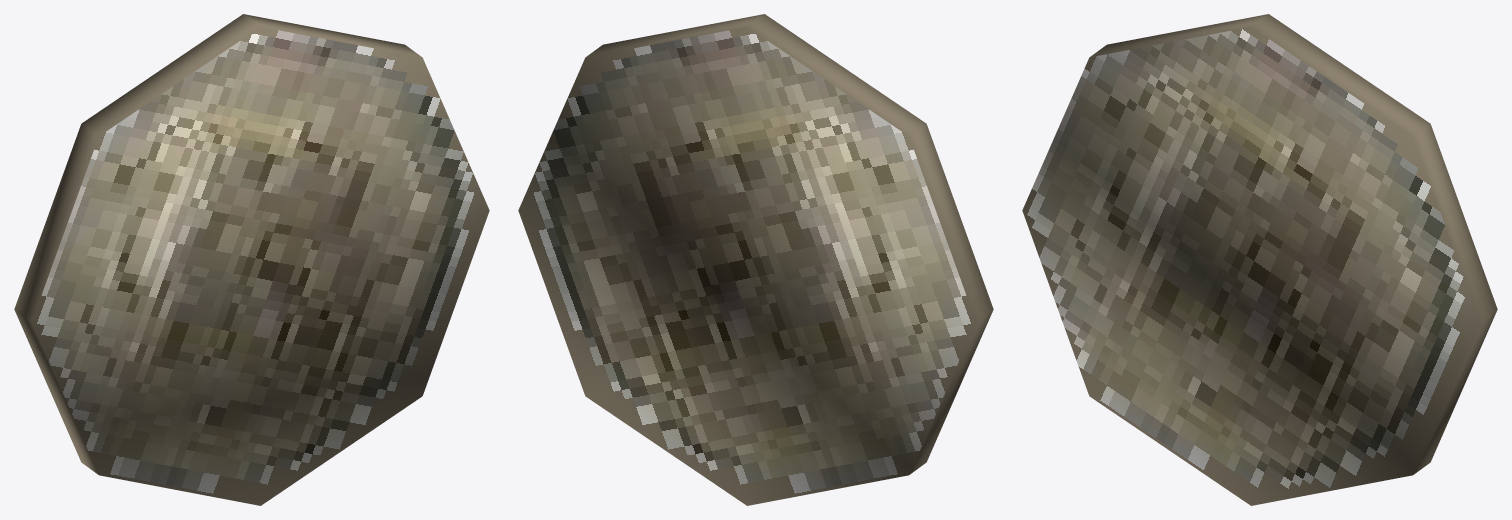
The model's file is aventine_coins_quinarius.glb.
The picture shows the model from 3 angles, left to right: view 1: azimuth 30°, elevation 25°; view 2: azimuth 150°, elevation 25°; view 3: azimuth 330°, elevation 25°; orthographic projection.
Parts seen in each view (by area): view 1: coin_03_quinarius; view 2: coin_03_quinarius; view 3: coin_03_quinarius.
Boxes of the visible parts, bbox=[...] form: coin_03_quinarius: bbox=[14, 14, 489, 505]; coin_03_quinarius: bbox=[518, 14, 993, 505]; coin_03_quinarius: bbox=[1022, 14, 1497, 505].
Bounding box in the file's own units: 0.3327 × 0.3327 × 0.0221.
Materials: 1 (1 with a texture image).
